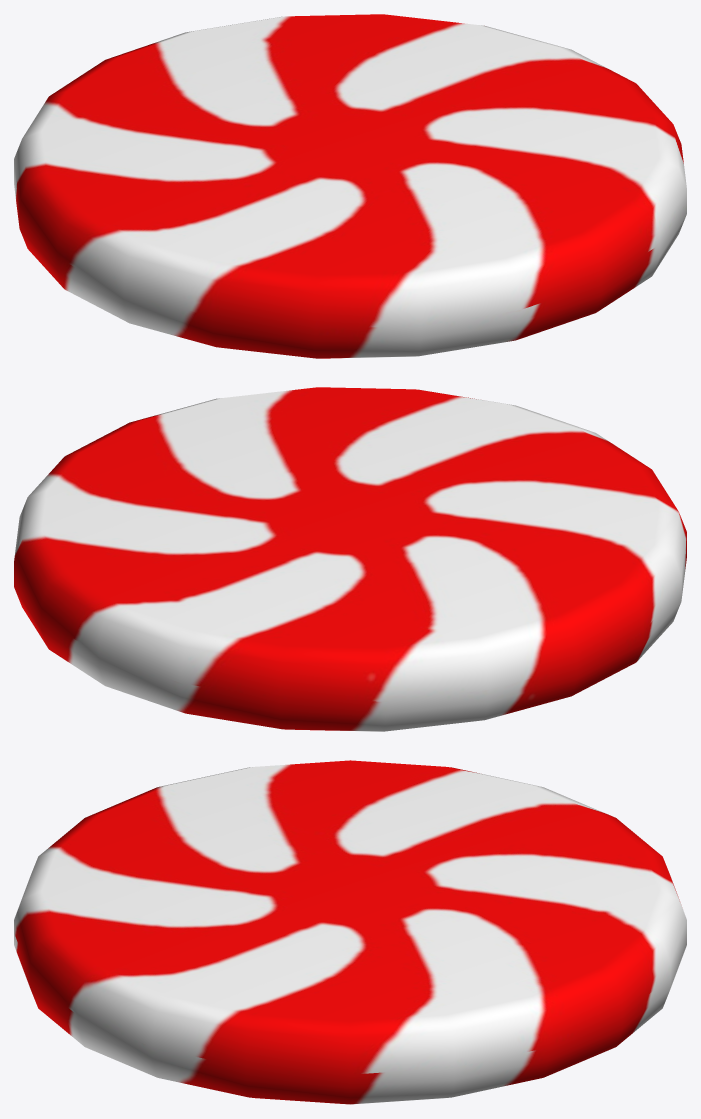
Rendered from CandySlingShot.fbx.
3 renders of one model, top to bottom at view 1: azimuth 30°, elevation 25°; view 2: azimuth 150°, elevation 25°; view 3: azimuth 270°, elevation 25°, orthographic.
Parts seen in each view (by area): view 1: pCylinder1; view 2: pCylinder1; view 3: pCylinder1.
Part boxes in pixels (bbox=[...]): pCylinder1: bbox=[14, 14, 686, 358]; pCylinder1: bbox=[14, 387, 686, 731]; pCylinder1: bbox=[14, 760, 686, 1104].
Bounding box in the file's own units: 64.28 × 8.77 × 64.28.
Materials: 1 (1 with a texture image).
